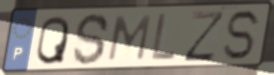L: (149, 11, 178, 63)
M: (105, 13, 154, 62)
Q: (34, 14, 72, 67)
S: (70, 11, 112, 67), (221, 8, 264, 62)
Z: (182, 9, 228, 64)
